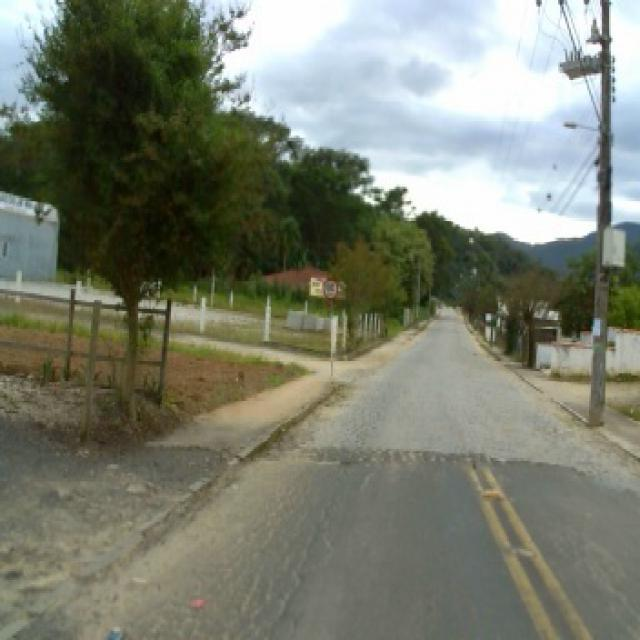Poth-hole: (144, 480, 336, 636), (358, 447, 474, 460), (299, 448, 356, 464), (484, 487, 504, 498)
